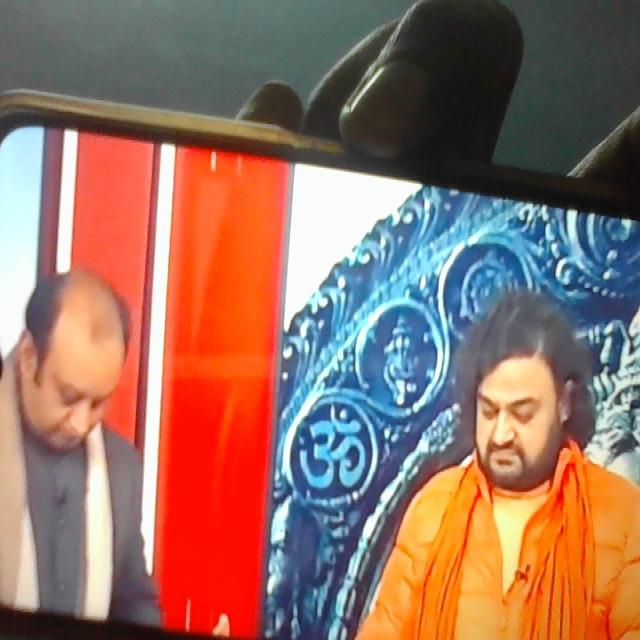fake: (460, 306, 568, 510)
